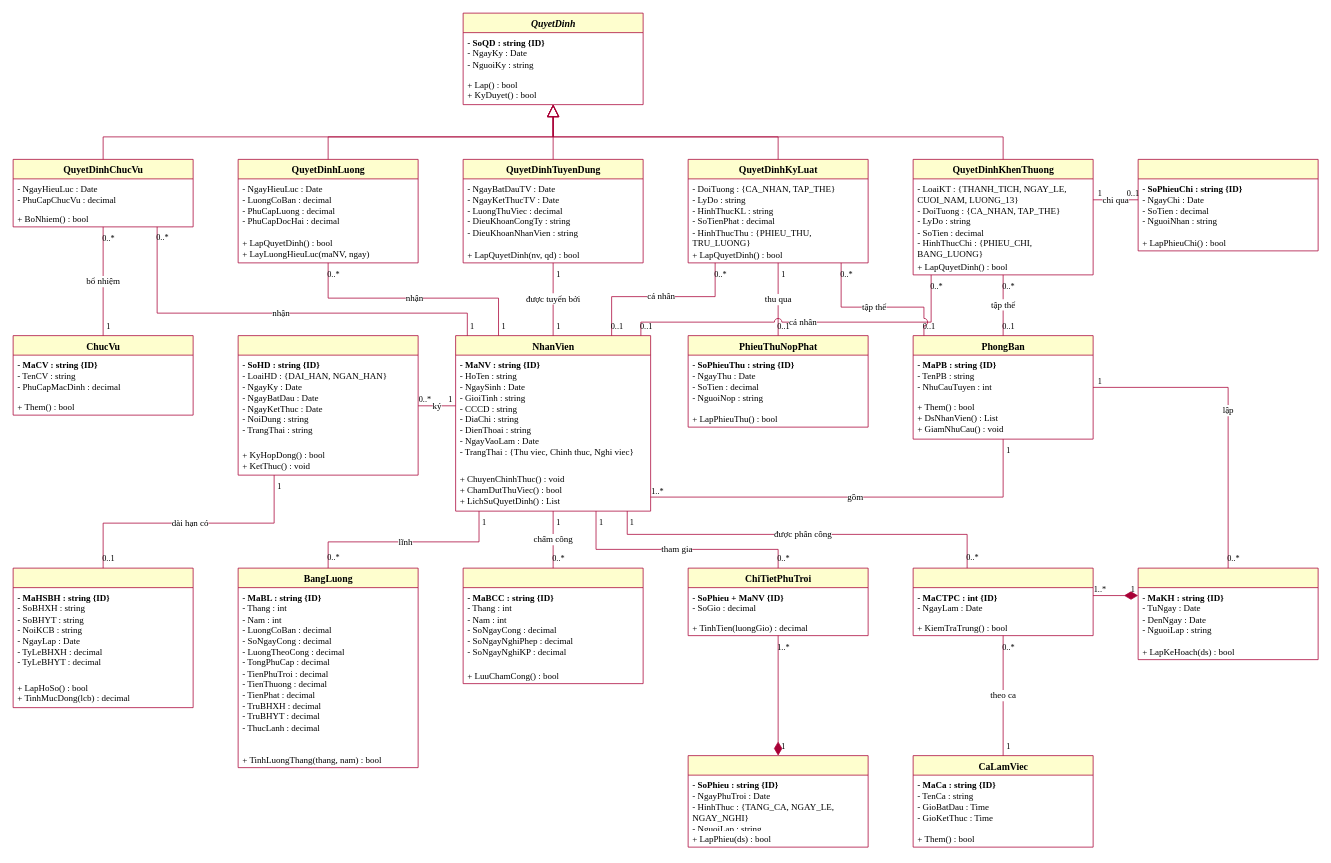
This 1331x863 diagram has some shape labels left out. The shapes that lost their labels are listed below. From the top down, each one's box as (x1, y1, x2, y2) in pixels, then its label:
(1137, 159, 1318, 251): PhieuChiKhenThuong
(237, 335, 418, 475): HopDongLaoDong
(912, 567, 1093, 636): ChiTietPhanCong
(1137, 567, 1318, 660): KeHoachPhanCong
(12, 567, 193, 708): HoSoBaoHiem
(462, 567, 643, 684): BangChamCong
(687, 755, 868, 847): PhieuPhuTroi
